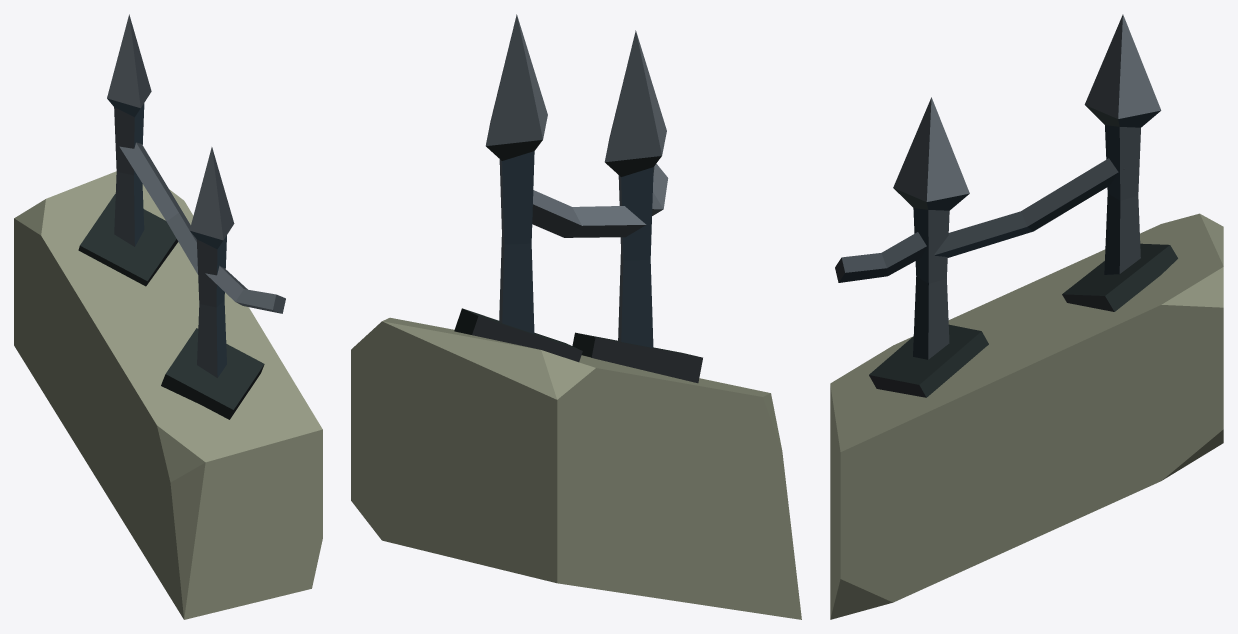
File: ramp_long_straight_railing_half_low_2_metal_spikes.fbx
The picture shows the model from 3 angles, left to right: view 1: azimuth 30°, elevation 25°; view 2: azimuth 150°, elevation 25°; view 3: azimuth 270°, elevation 25°; orthographic projection. The views are drawn at different scales.
Parts seen in each view (by area): view 1: ramp_long_straight_railing_half_low_2_metal_spikes; view 2: ramp_long_straight_railing_half_low_2_metal_spikes; view 3: ramp_long_straight_railing_half_low_2_metal_spikes.
Boxes of the visible parts, x1,y1,x2,y2 form: ramp_long_straight_railing_half_low_2_metal_spikes: [14, 14, 322, 619]; ramp_long_straight_railing_half_low_2_metal_spikes: [351, 14, 801, 619]; ramp_long_straight_railing_half_low_2_metal_spikes: [830, 14, 1223, 619].
Size of the model in its own units: 50 by 165 by 103.
